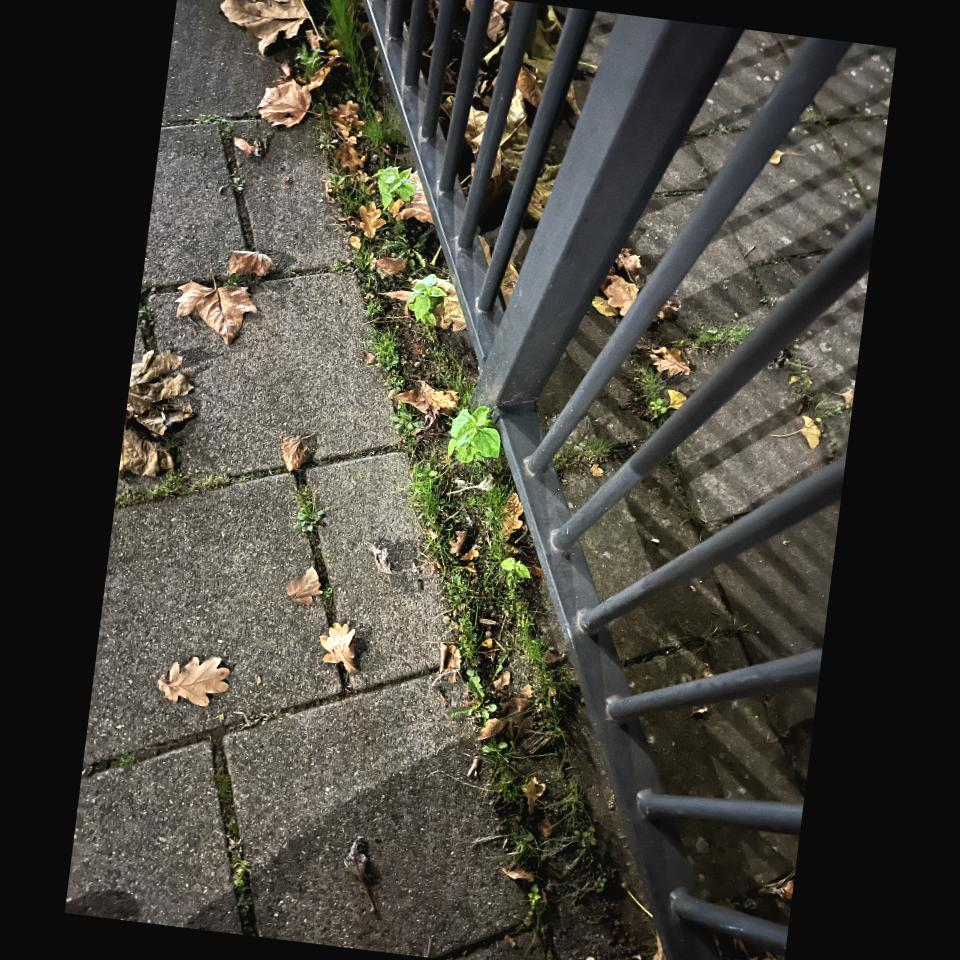weed: (368, 389, 635, 932)
